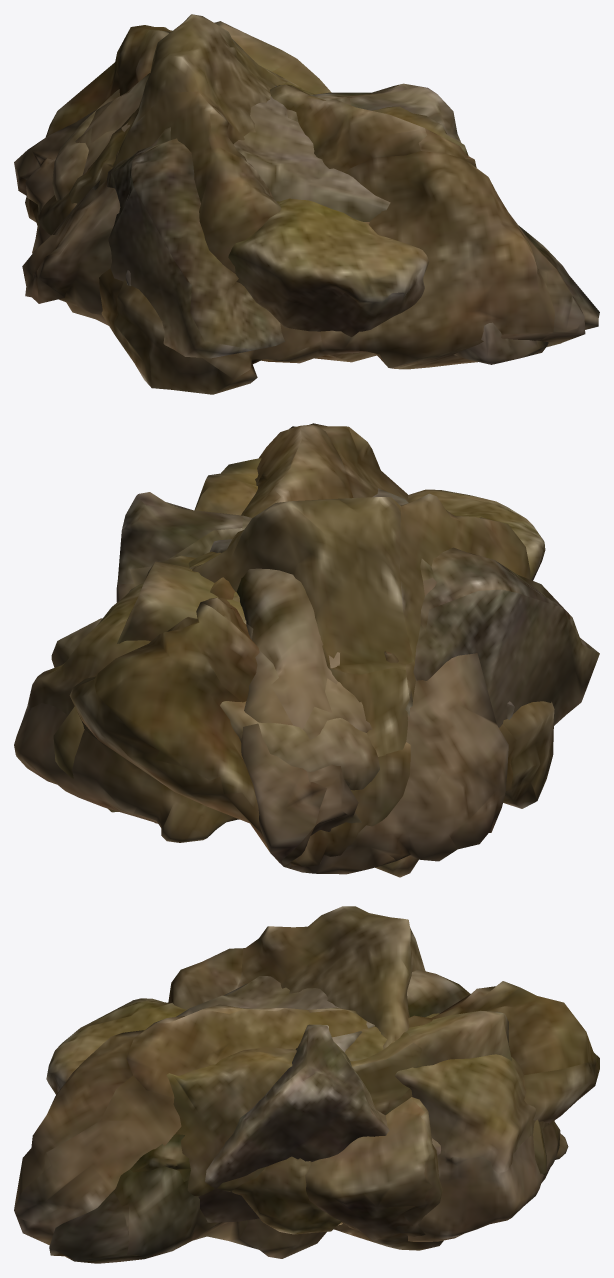
The model's file is rock_moss_set_01.glb.
3 views of the same model, one above another, from view 1: azimuth 30°, elevation 25°; view 2: azimuth 150°, elevation 25°; view 3: azimuth 270°, elevation 25° (orthographic). The views are drawn at different scales.
Parts seen in each view (by area): view 1: plant_0, plant_1, plant_2, plant_3, plant_4, plant_5; view 2: plant_0, plant_1, plant_3, plant_2, plant_4, plant_5; view 3: plant_0, plant_3, plant_4, plant_5, plant_1, plant_2.
Part boxes in pixels (box(x1,y1,x2,y2)): plant_0: box(25, 25, 585, 394); plant_1: box(14, 73, 599, 364); plant_2: box(90, 83, 461, 358); plant_3: box(66, 14, 298, 325); plant_4: box(52, 82, 429, 336); plant_5: box(125, 21, 468, 285); plant_0: box(69, 423, 554, 866); plant_1: box(210, 488, 508, 874); plant_3: box(51, 493, 530, 877); plant_2: box(116, 492, 599, 727); plant_4: box(14, 489, 545, 842); plant_5: box(53, 458, 514, 812); plant_0: box(14, 981, 599, 1258); plant_3: box(168, 906, 443, 1250); plant_4: box(46, 998, 568, 1241); plant_5: box(166, 1010, 546, 1234); plant_1: box(49, 969, 470, 1263); plant_2: box(198, 1024, 440, 1222).
Size of the model in its own units: 2.65 by 1.76 by 3.36.
1 material, 1 textured.
